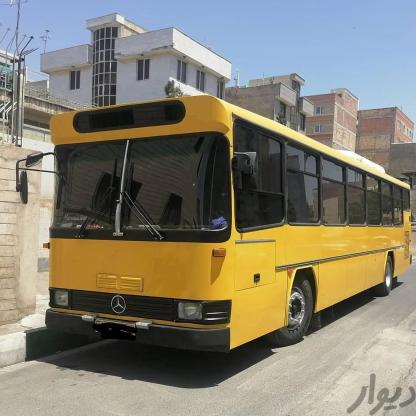Bus: (45, 88, 416, 358)
